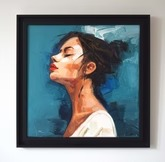painting: (16, 14, 151, 148)
